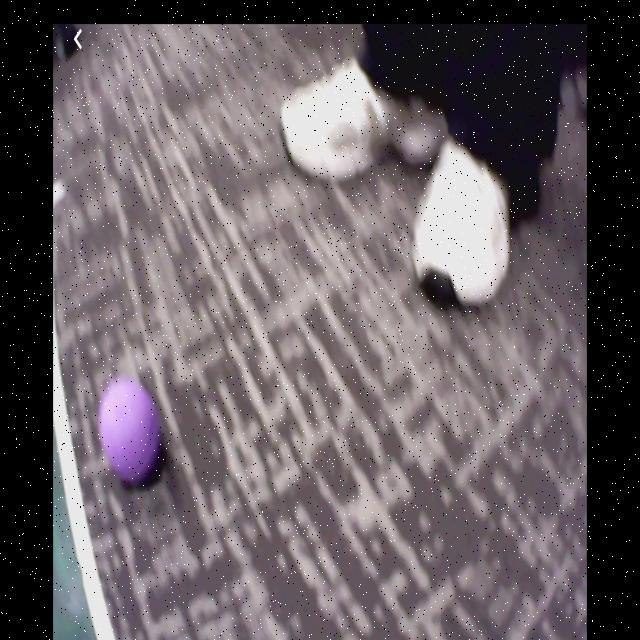ball: (98, 381, 161, 480)
